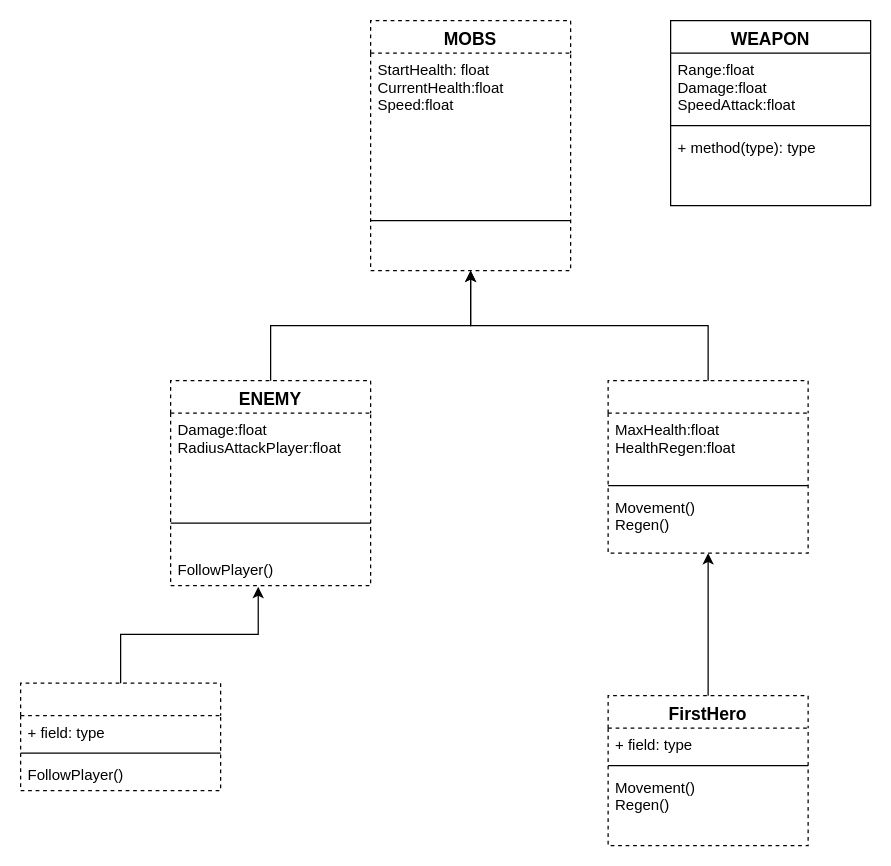
Some shapes in this 891 by 866 pixel diagram are drawn without their labels. Each missing label, with the box of its shape:
HEROES: (607, 379, 808, 553)
ZOMBIE: (19, 682, 221, 791)
